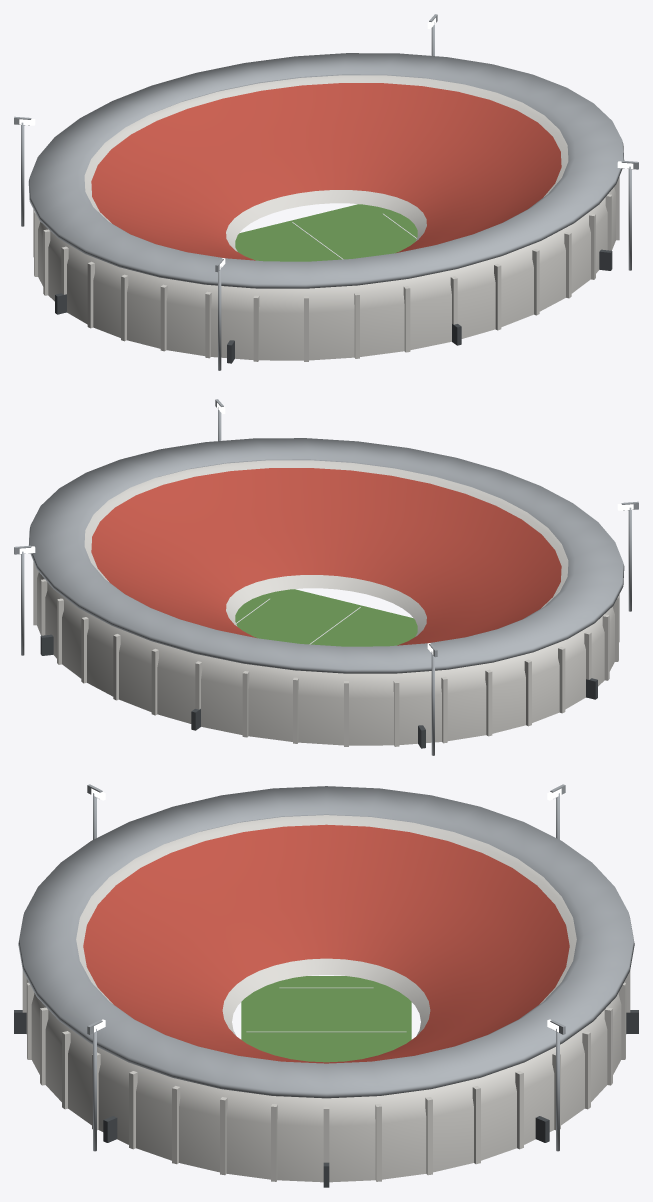
Rendered from stadium.glb.
3 renders of one model, top to bottom at view 1: azimuth 30°, elevation 25°; view 2: azimuth 150°, elevation 25°; view 3: azimuth 270°, elevation 25°, orthographic. The views are drawn at different scales.
Visible parts, largest first — view 1: stadium_seats, Merged_ConcreteLight, Merged_PropsMetal, stadium_pitch, Merged_WindowFrame; view 2: stadium_seats, Merged_ConcreteLight, Merged_PropsMetal, stadium_pitch, Merged_WindowFrame; view 3: stadium_seats, Merged_ConcreteLight, Merged_PropsMetal, stadium_pitch, Merged_WindowFrame.
Part boxes in pixels (x1,y1,x2,y2): stadium_seats: [91, 83, 561, 260]; Merged_ConcreteLight: [33, 75, 619, 361]; Merged_PropsMetal: [14, 14, 638, 370]; stadium_pitch: [235, 204, 417, 261]; Merged_WindowFrame: [55, 249, 612, 363]; stadium_seats: [91, 468, 561, 645]; Merged_ConcreteLight: [33, 460, 619, 746]; Merged_PropsMetal: [14, 399, 638, 755]; stadium_pitch: [235, 589, 417, 646]; Merged_WindowFrame: [40, 634, 597, 748]; stadium_seats: [83, 824, 569, 1063]; Merged_ConcreteLight: [22, 815, 630, 1182]; Merged_PropsMetal: [18, 784, 634, 1151]; stadium_pitch: [241, 976, 411, 1062]; Merged_WindowFrame: [14, 1010, 638, 1187].
Size of the model in its own units: 311 by 59.3 by 265.
